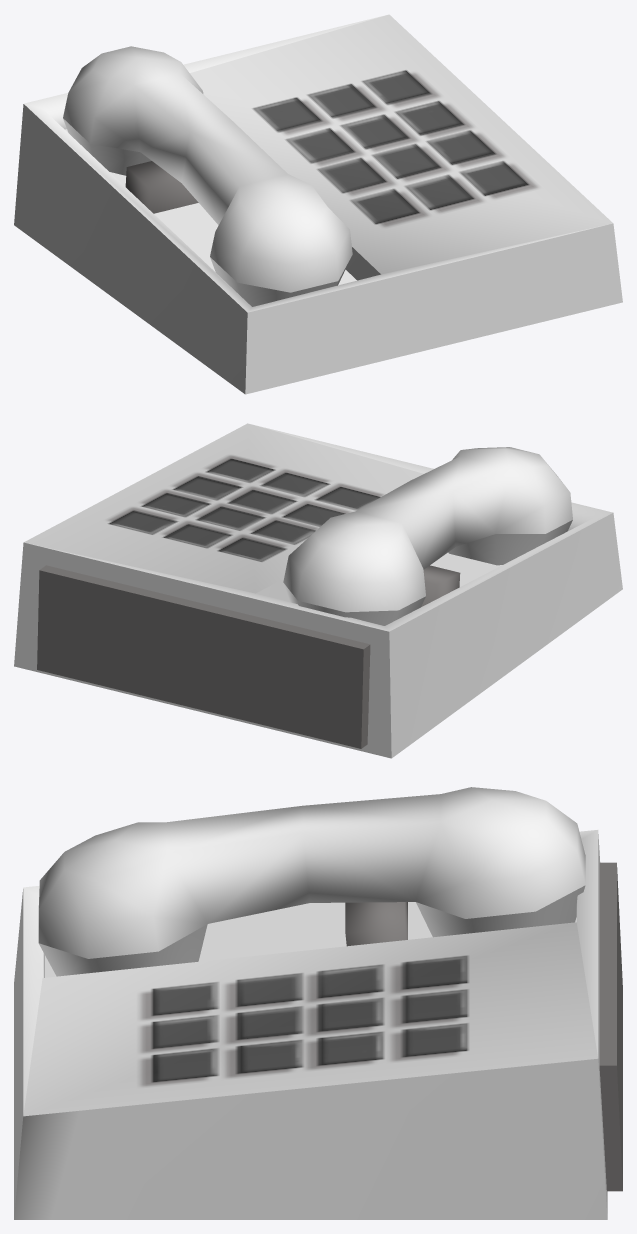
Rendered from telephone.FBX.
The picture shows the model from 3 angles, top to bottom: view 1: azimuth 30°, elevation 25°; view 2: azimuth 150°, elevation 25°; view 3: azimuth 270°, elevation 25°; orthographic projection. The views are drawn at different scales.
Visible parts, largest first — view 1: telephone1_1, telephone1_2; view 2: telephone1_1, telephone1_2; view 3: telephone1_1, telephone1_2.
Part boxes in pixels (<box>): telephone1_1: <box>14,14,622,394</box>; telephone1_2: <box>63,46,352,306</box>; telephone1_1: <box>14,423,622,758</box>; telephone1_2: <box>283,447,572,625</box>; telephone1_1: <box>14,830,622,1219</box>; telephone1_2: <box>38,787,585,976</box>.
Bounding box in the file's own units: 20.26 × 9.29 × 22.06.
Materials: 1 (1 with a texture image).
